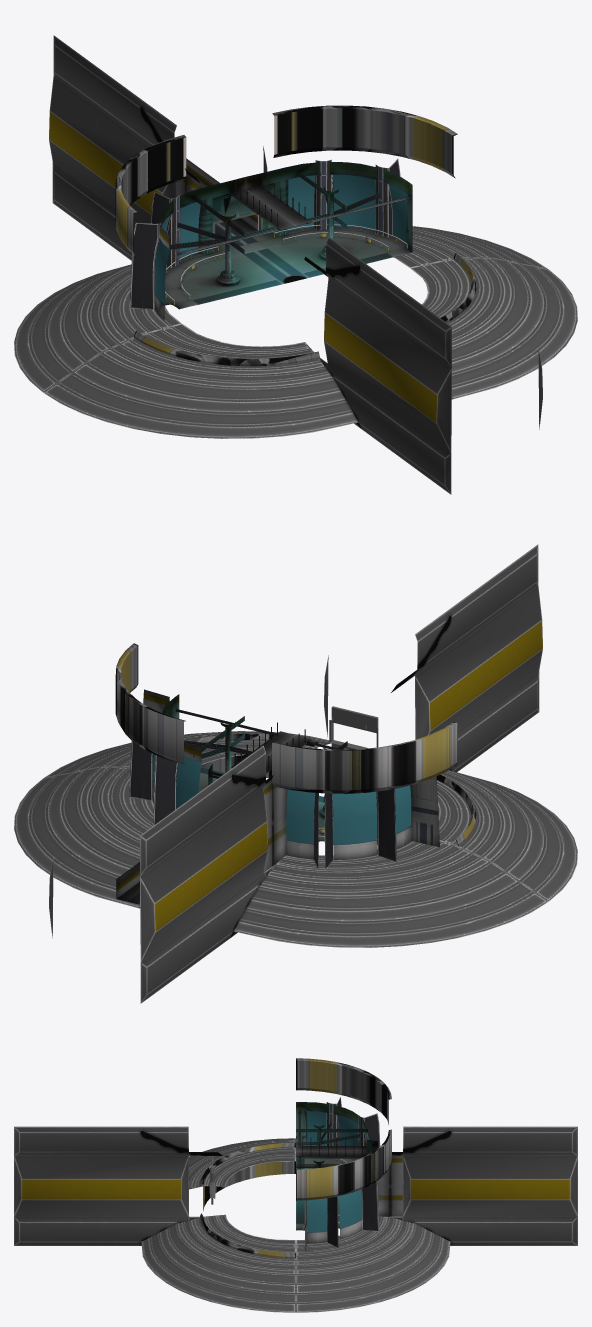
Rendered from station.glb.
3 views of the same model, one above another, from view 1: azimuth 30°, elevation 25°; view 2: azimuth 150°, elevation 25°; view 3: azimuth 270°, elevation 25° (orthographic). The views are drawn at different scales.
Parts seen in each view (by area): view 1: door.003; view 2: door.003; view 3: door.003.
Boxes of the visible parts, <box> form: door.003: <box>14,35,577,494</box>; door.003: <box>14,544,577,1003</box>; door.003: <box>14,1058,577,1312</box>.
Bounding box in the file's own units: 87.9 × 27.9 × 120.
7 materials, 6 textured.
